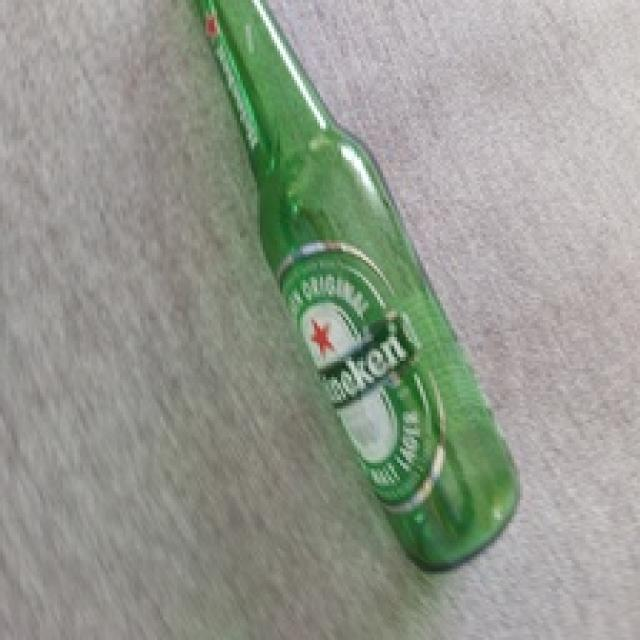glass-bottle: (145, 1, 558, 614)
